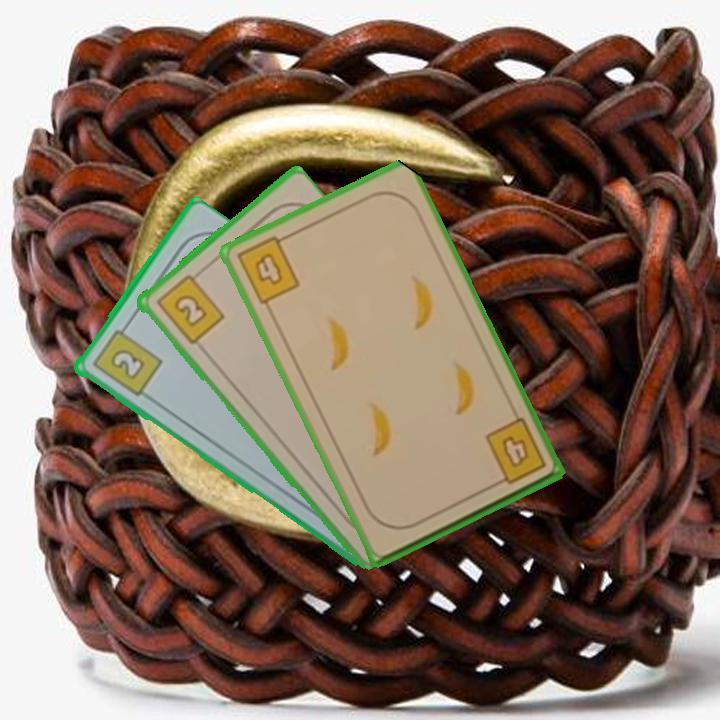2b: (88, 320, 164, 400), (152, 267, 227, 347)
4b: (233, 230, 303, 307), (481, 414, 549, 490)
